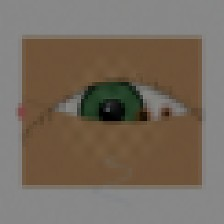foreign_body_visible: (43, 76, 85, 109)
